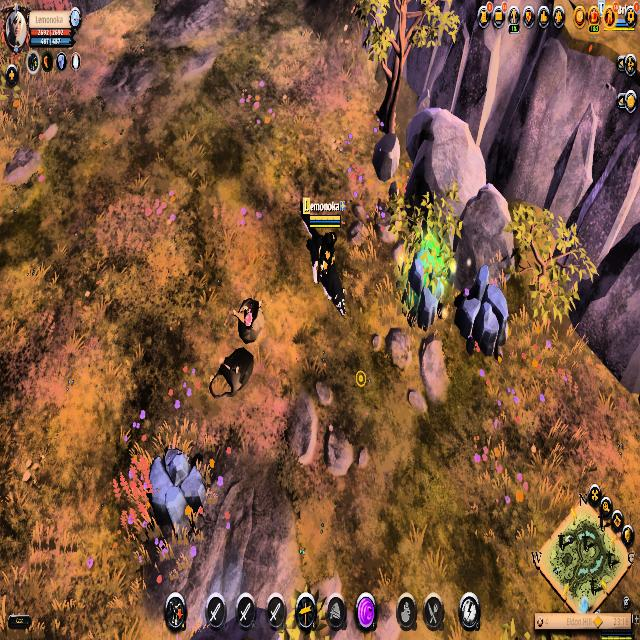rock tier 4: (146, 444, 208, 540), (453, 264, 511, 364), (402, 230, 452, 333)
